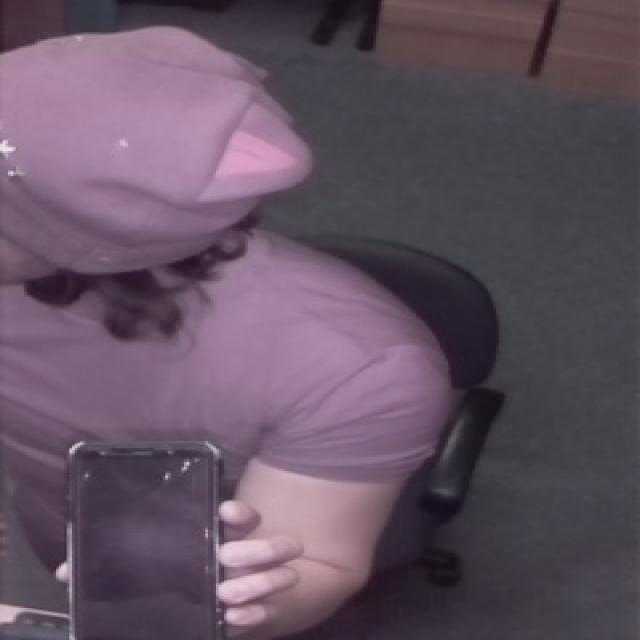phone: (35, 428, 249, 639)
